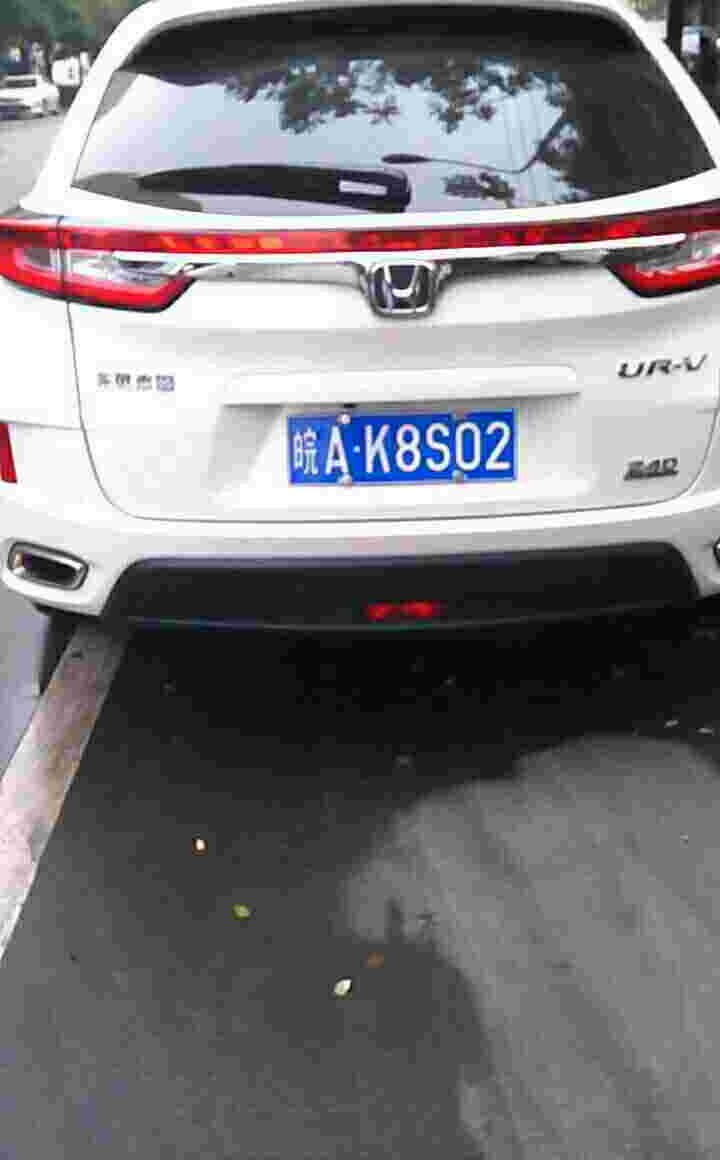plate: (288, 404, 523, 491)
